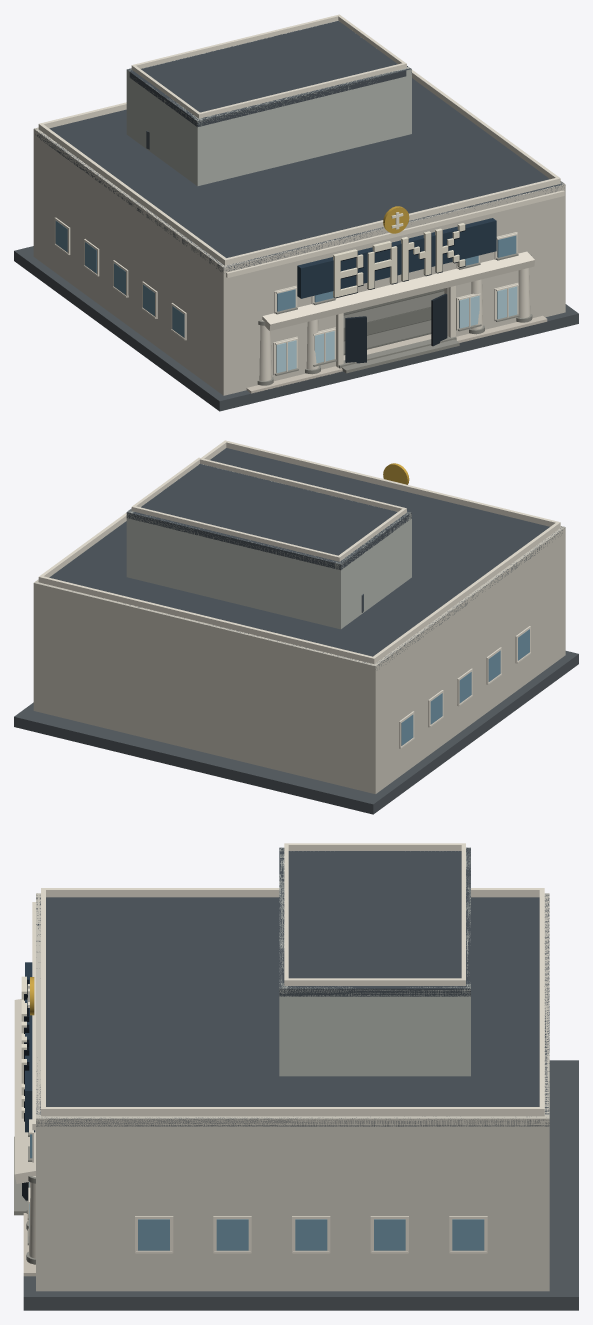
The model's file is bank-building.glb.
3 views of the same model, one above another, from view 1: azimuth 30°, elevation 25°; view 2: azimuth 150°, elevation 25°; view 3: azimuth 270°, elevation 25° (orthographic). The views are drawn at different scales.
Visible parts, largest first — view 1: bank_cutaway_roof, bank_hull_wall, bank_exterior_detail, bank_cutaway_upper, bank_foundation, bank_interior; view 2: bank_hull_wall, bank_cutaway_roof, bank_cutaway_upper, bank_foundation, bank_exterior_detail; view 3: bank_cutaway_roof, bank_hull_wall, bank_foundation, bank_cutaway_upper, bank_exterior_detail.
Part boxes in pixels (x1=…): bank_cutaway_roof: x1=34, y1=14, x2=564, y2=271; bank_hull_wall: x1=33, y1=127, x2=565, y2=395; bank_exterior_detail: x1=54, y1=190, x2=564, y2=385; bank_cutaway_upper: x1=126, y1=20, x2=411, y2=186; bank_foundation: x1=14, y1=246, x2=578, y2=411; bank_interior: x1=343, y1=288, x2=444, y2=355; bank_hull_wall: x1=33, y1=526, x2=565, y2=794; bank_cutaway_roof: x1=38, y1=440, x2=563, y2=667; bank_cutaway_upper: x1=126, y1=464, x2=411, y2=629; bank_foundation: x1=14, y1=651, x2=578, y2=814; bank_exterior_detail: x1=383, y1=463, x2=530, y2=748; bank_cutaway_roof: x1=36, y1=843, x2=549, y2=1126; bank_hull_wall: x1=36, y1=893, x2=549, y2=1291; bank_foundation: x1=14, y1=1060, x2=578, y2=1310; bank_cutaway_upper: x1=279, y1=848, x2=470, y2=1076; bank_exterior_detail: x1=14, y1=902, x2=487, y2=1264.
Size of the model in its own units: 22.8 by 12.61 by 23.
